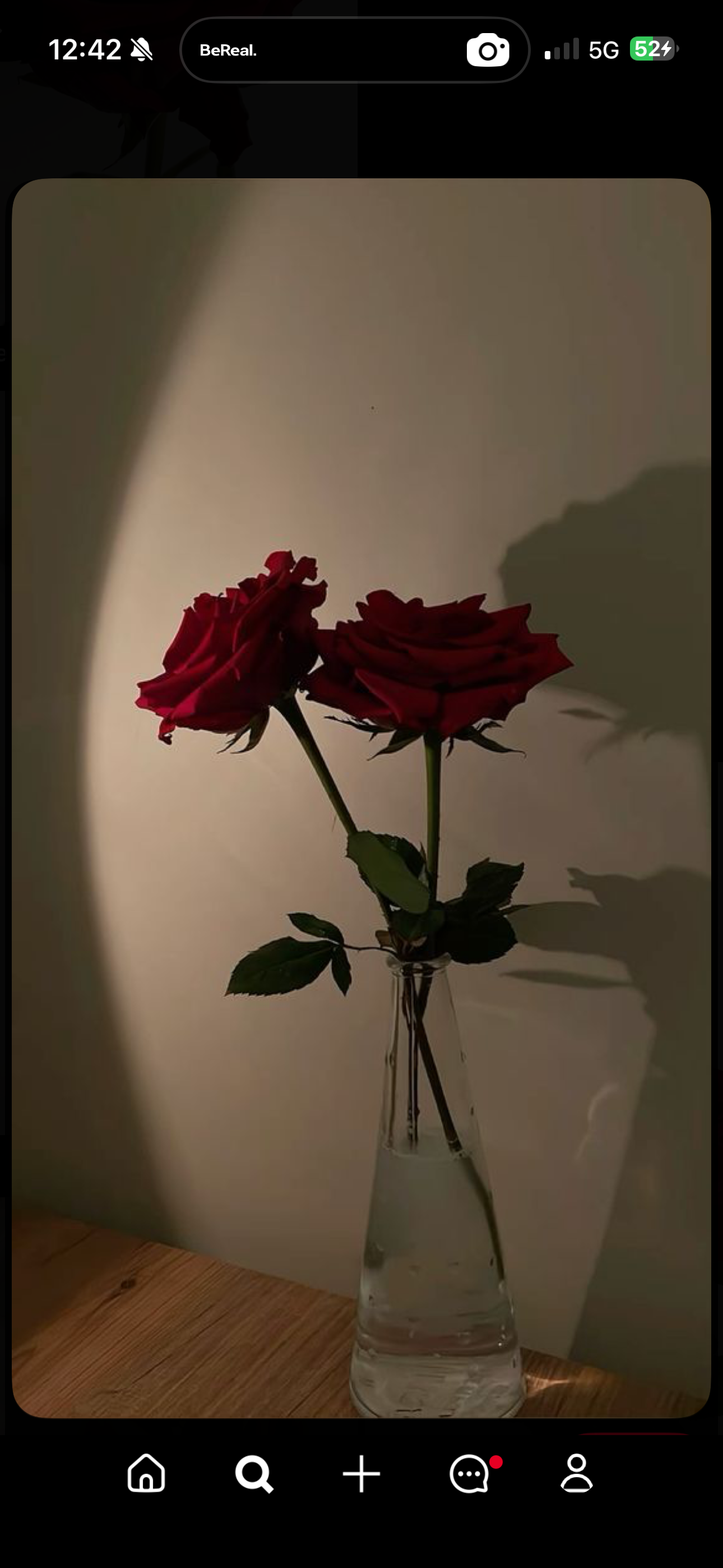rose: (302, 586, 578, 751), (129, 545, 331, 759)
